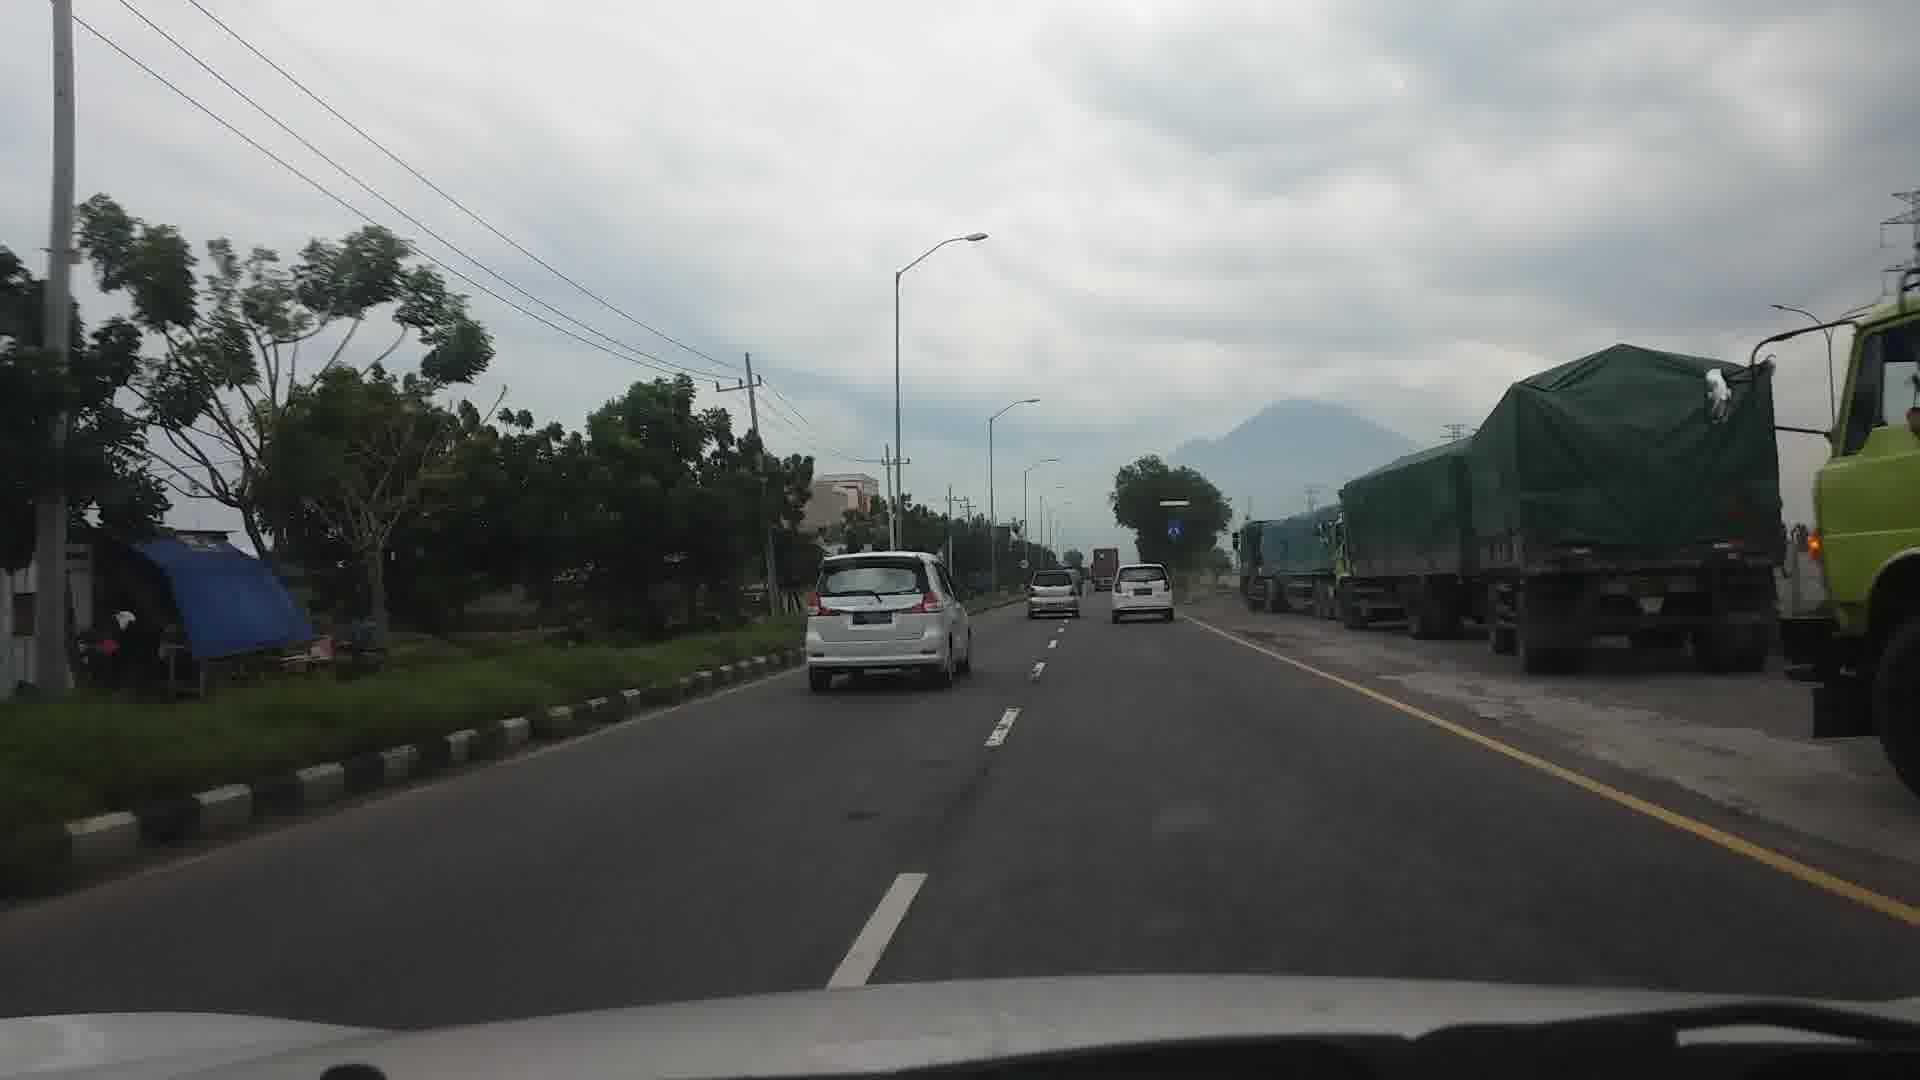plate_positive: (852, 611, 893, 625), (1134, 589, 1153, 596)
